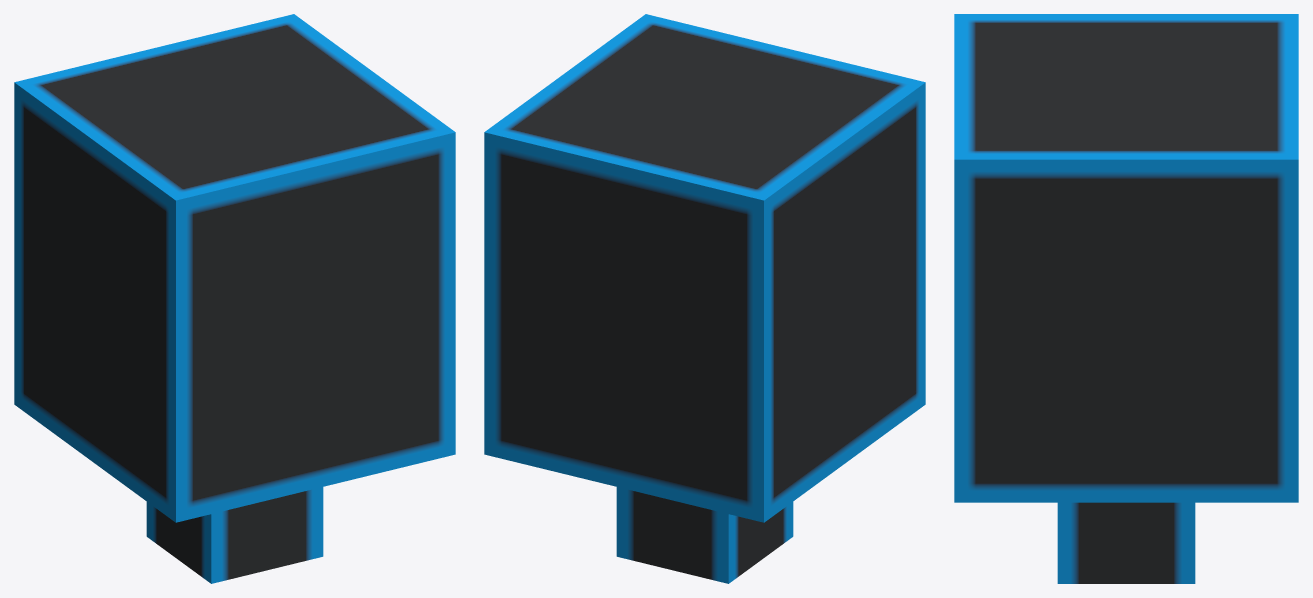
Rendered from PacMan_Tree2.fbx.
3 views of the same model, side by side, from view 1: azimuth 30°, elevation 25°; view 2: azimuth 150°, elevation 25°; view 3: azimuth 270°, elevation 25° (orthographic). The views are drawn at different scales.
Parts seen in each view (by area): view 1: Matrix; view 2: Matrix; view 3: Matrix.
Boxes of the visible parts, box(x1,y1,x2,y2) form: Matrix: box(14, 14, 455, 583); Matrix: box(484, 14, 925, 583); Matrix: box(954, 14, 1298, 583).
Size of the model in its own units: 20 by 30 by 20.
1 material, 1 textured.
